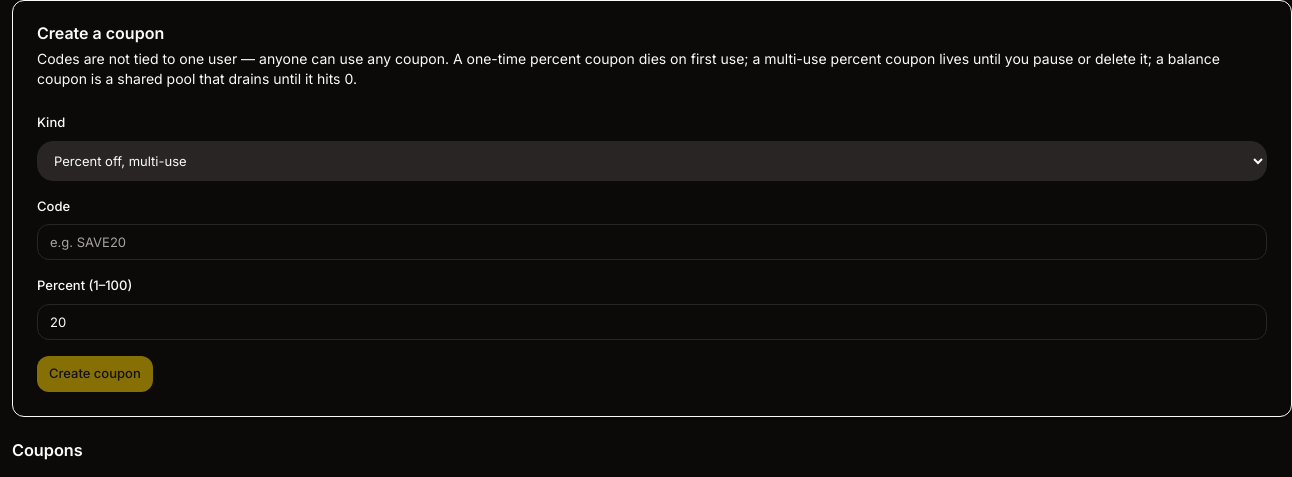
Test: AdminCouponsView coupon code input › uppercases a pasted lowercase code
This screenshot has width=1292, height=477.
Expected: the text "Create a coupon" is shown, [37, 23, 164, 43]
Click the field labelled "Code".
click(652, 242)  # box [37, 224, 1267, 260]
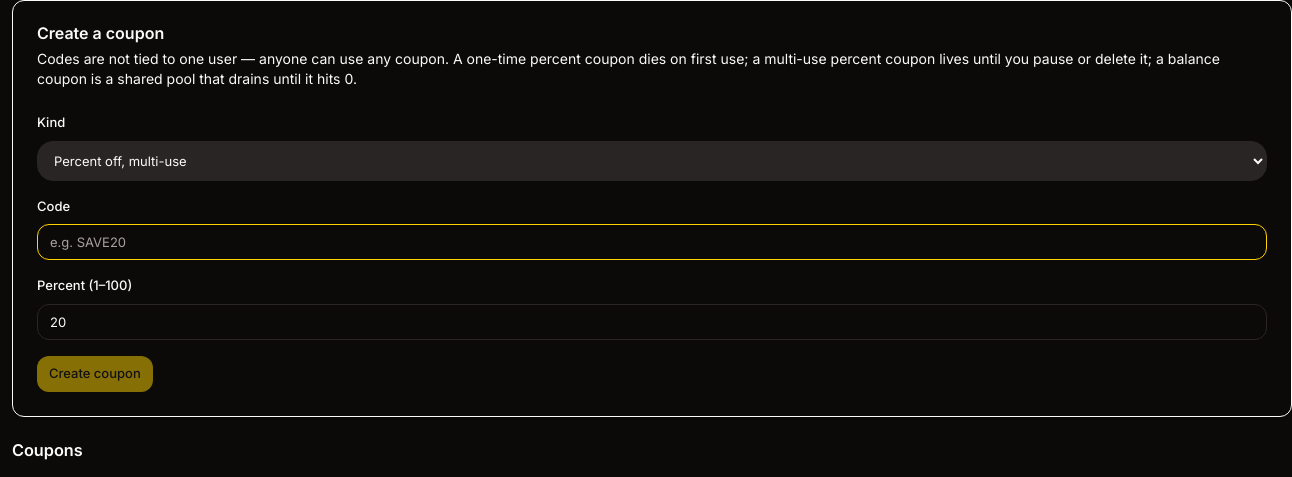
Type keys "save20"
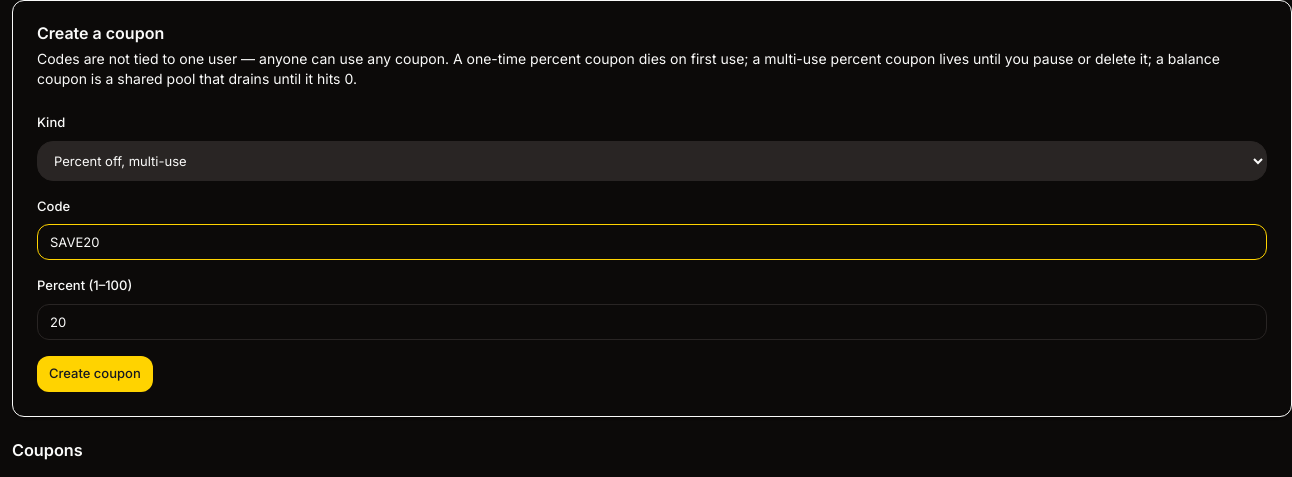
Expected: the field labelled "Code" holds "SAVE20", [37, 224, 1267, 260]
